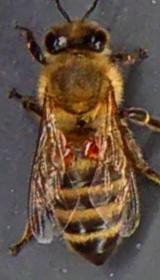varroa_mite: (80, 134, 102, 162), (59, 146, 78, 165)
